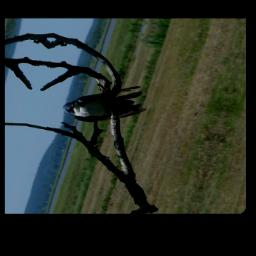Swallow: (57, 76, 155, 129)
